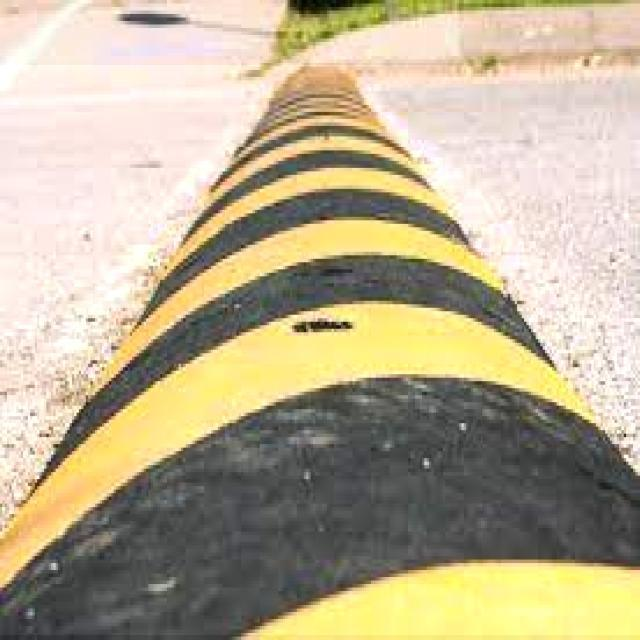speed-bump: (0, 65, 640, 635)
